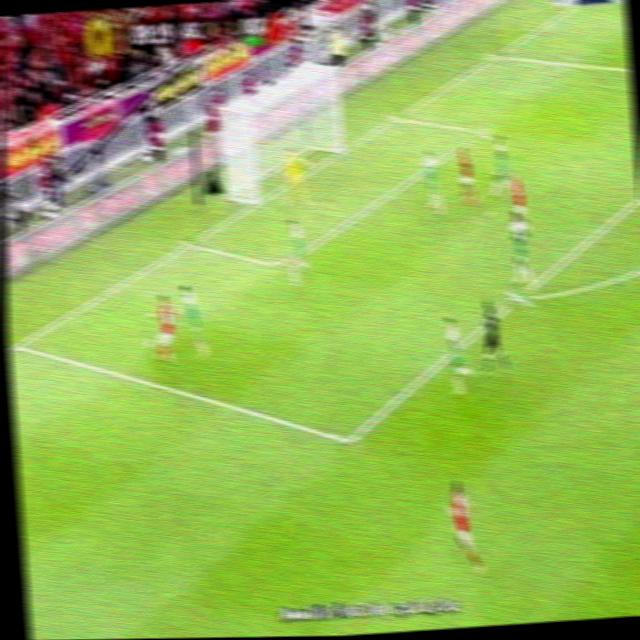bigarea_bottom_inner: (330, 421, 362, 458)
bigarea_bottom_outter: (6, 331, 28, 356)
bigarea_top_outter: (485, 44, 506, 66)
bottom_arc_area_intersection: (506, 281, 532, 311)
smallarea_bottom_inner: (269, 251, 292, 279)
smallarea_bottom_outter: (177, 230, 200, 255)
smallarea_top_inner: (467, 118, 492, 144)
smallarea_top_outter: (384, 105, 407, 129)
